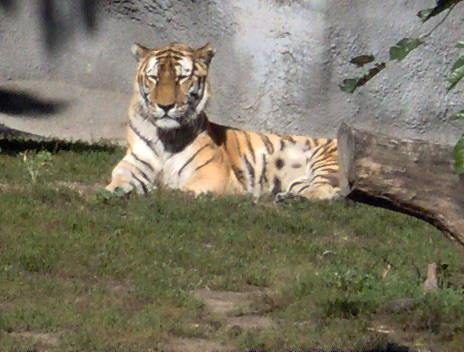Tigre: (88, 35, 345, 207)
